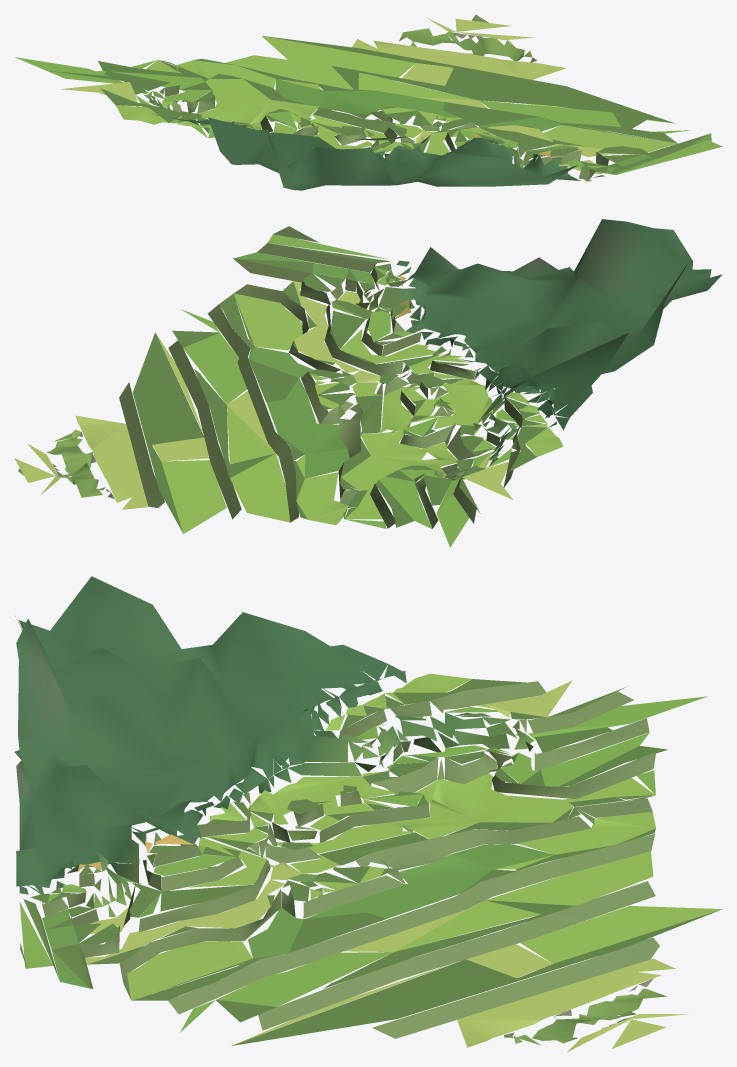
File: payo_land_xm4_y8_lod2.glb
The picture shows the model from 3 angles, top to bottom: view 1: azimuth 30°, elevation 25°; view 2: azimuth 150°, elevation 25°; view 3: azimuth 270°, elevation 25°; orthographic projection. The views are drawn at different scales.
Parts seen in each view (by area): view 1: payo_land_xm4_y8; view 2: payo_land_xm4_y8; view 3: payo_land_xm4_y8.
Boxes of the visible parts, x1,y1,x2,y2 form: payo_land_xm4_y8: [14, 14, 722, 190]; payo_land_xm4_y8: [14, 219, 722, 547]; payo_land_xm4_y8: [14, 576, 722, 1052].
Bounding box in the file's own units: 284 × 91.89 × 285.
